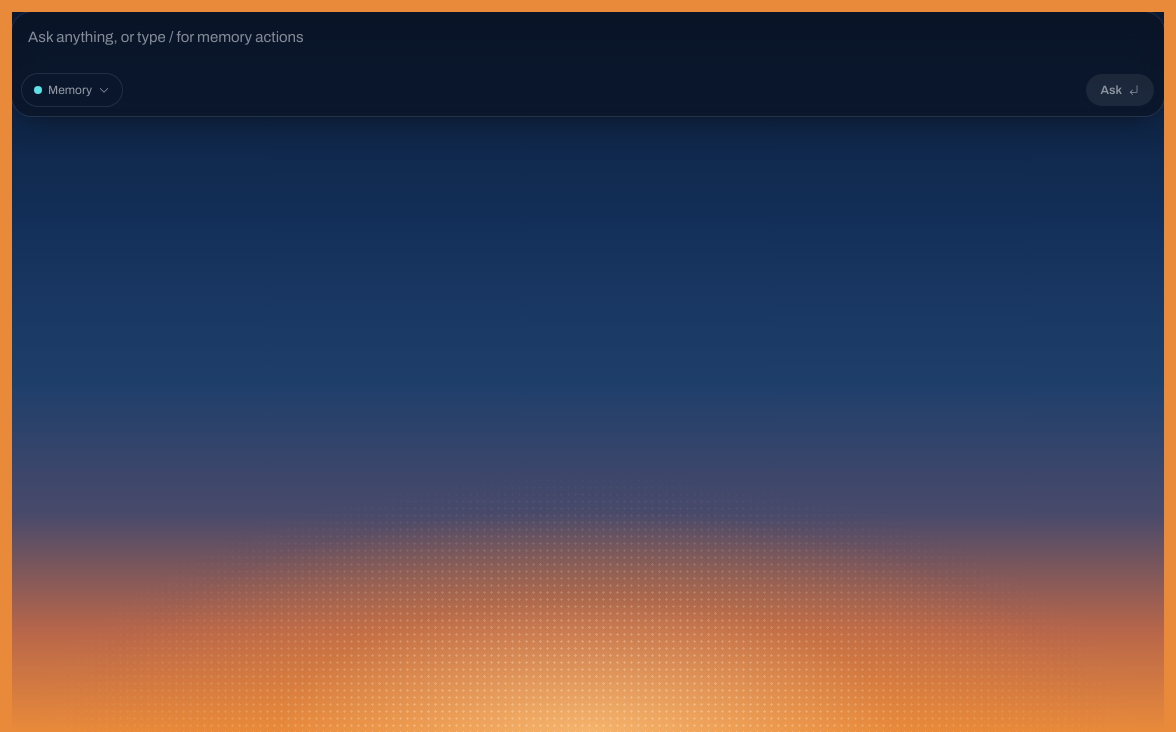
Test: Composer › sends the trimmed text on Enter and keeps Shift+Enter for a new line
Type "  hello  " into the text box named "Message" at (588, 40), box [12,12,1164,68]
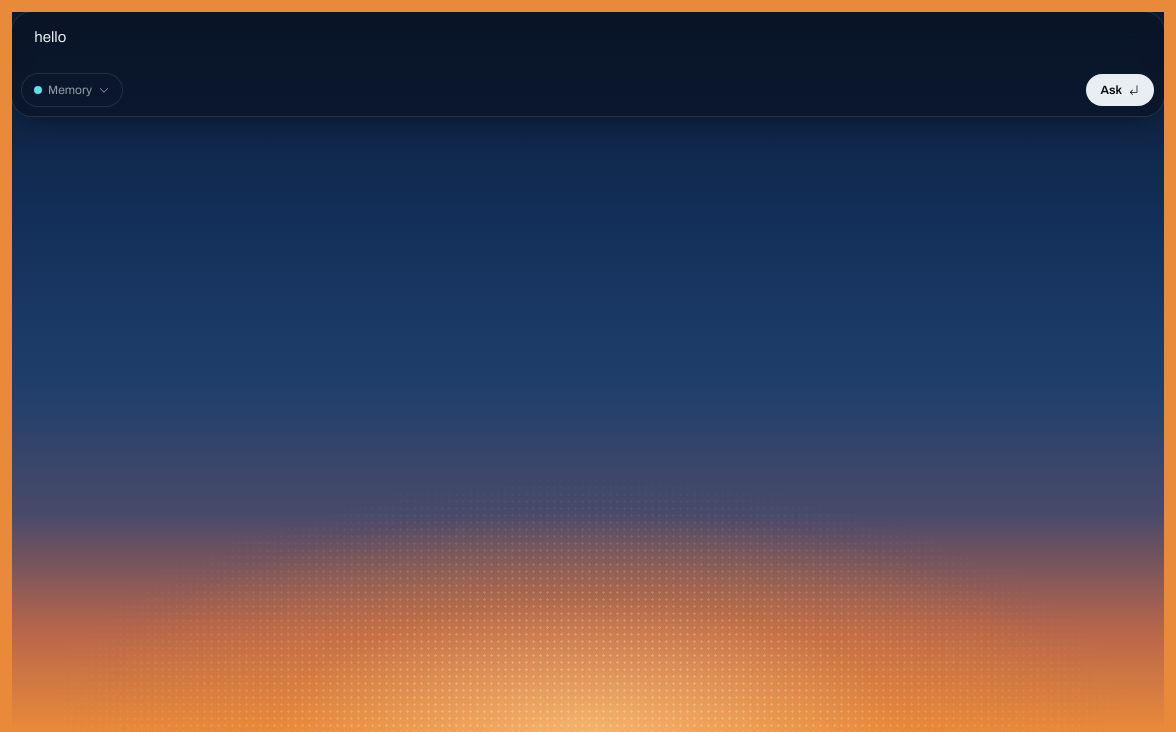
Press Enter in the text box named "Message", box [12,12,1164,68]
Press Enter in the text box named "Message", box [12,12,1164,68]
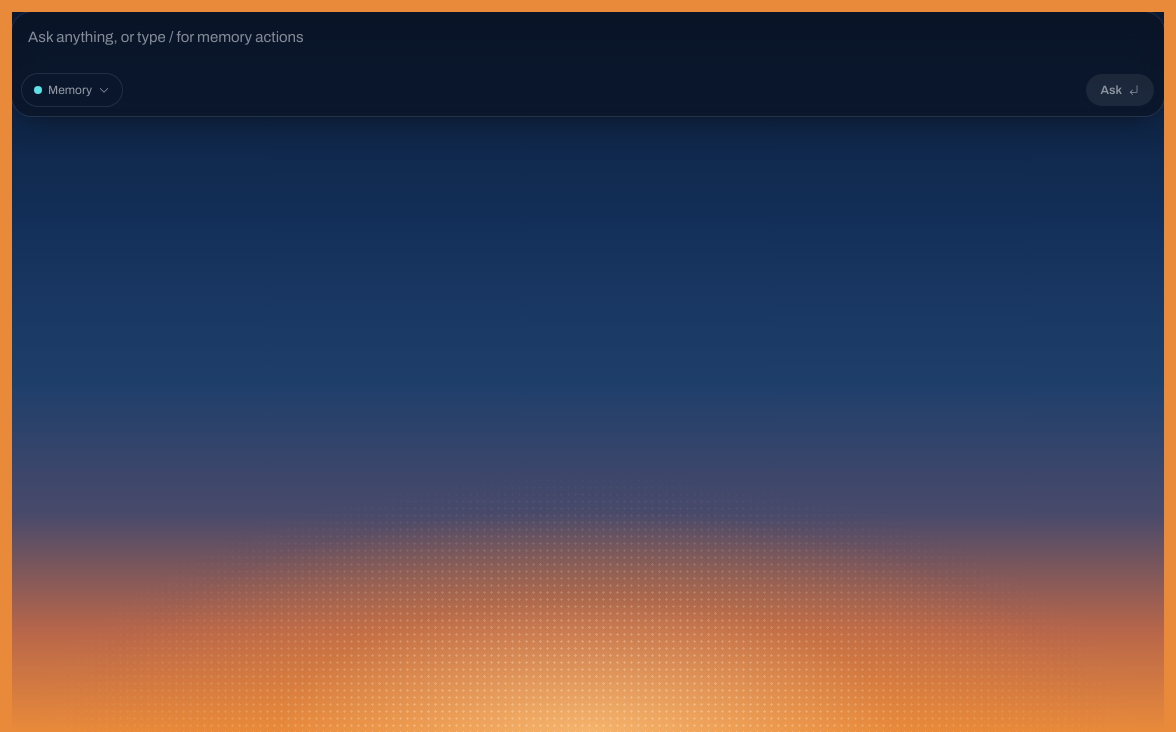
Expected: the text box named "Message" is empty, [12,12,1164,68]
